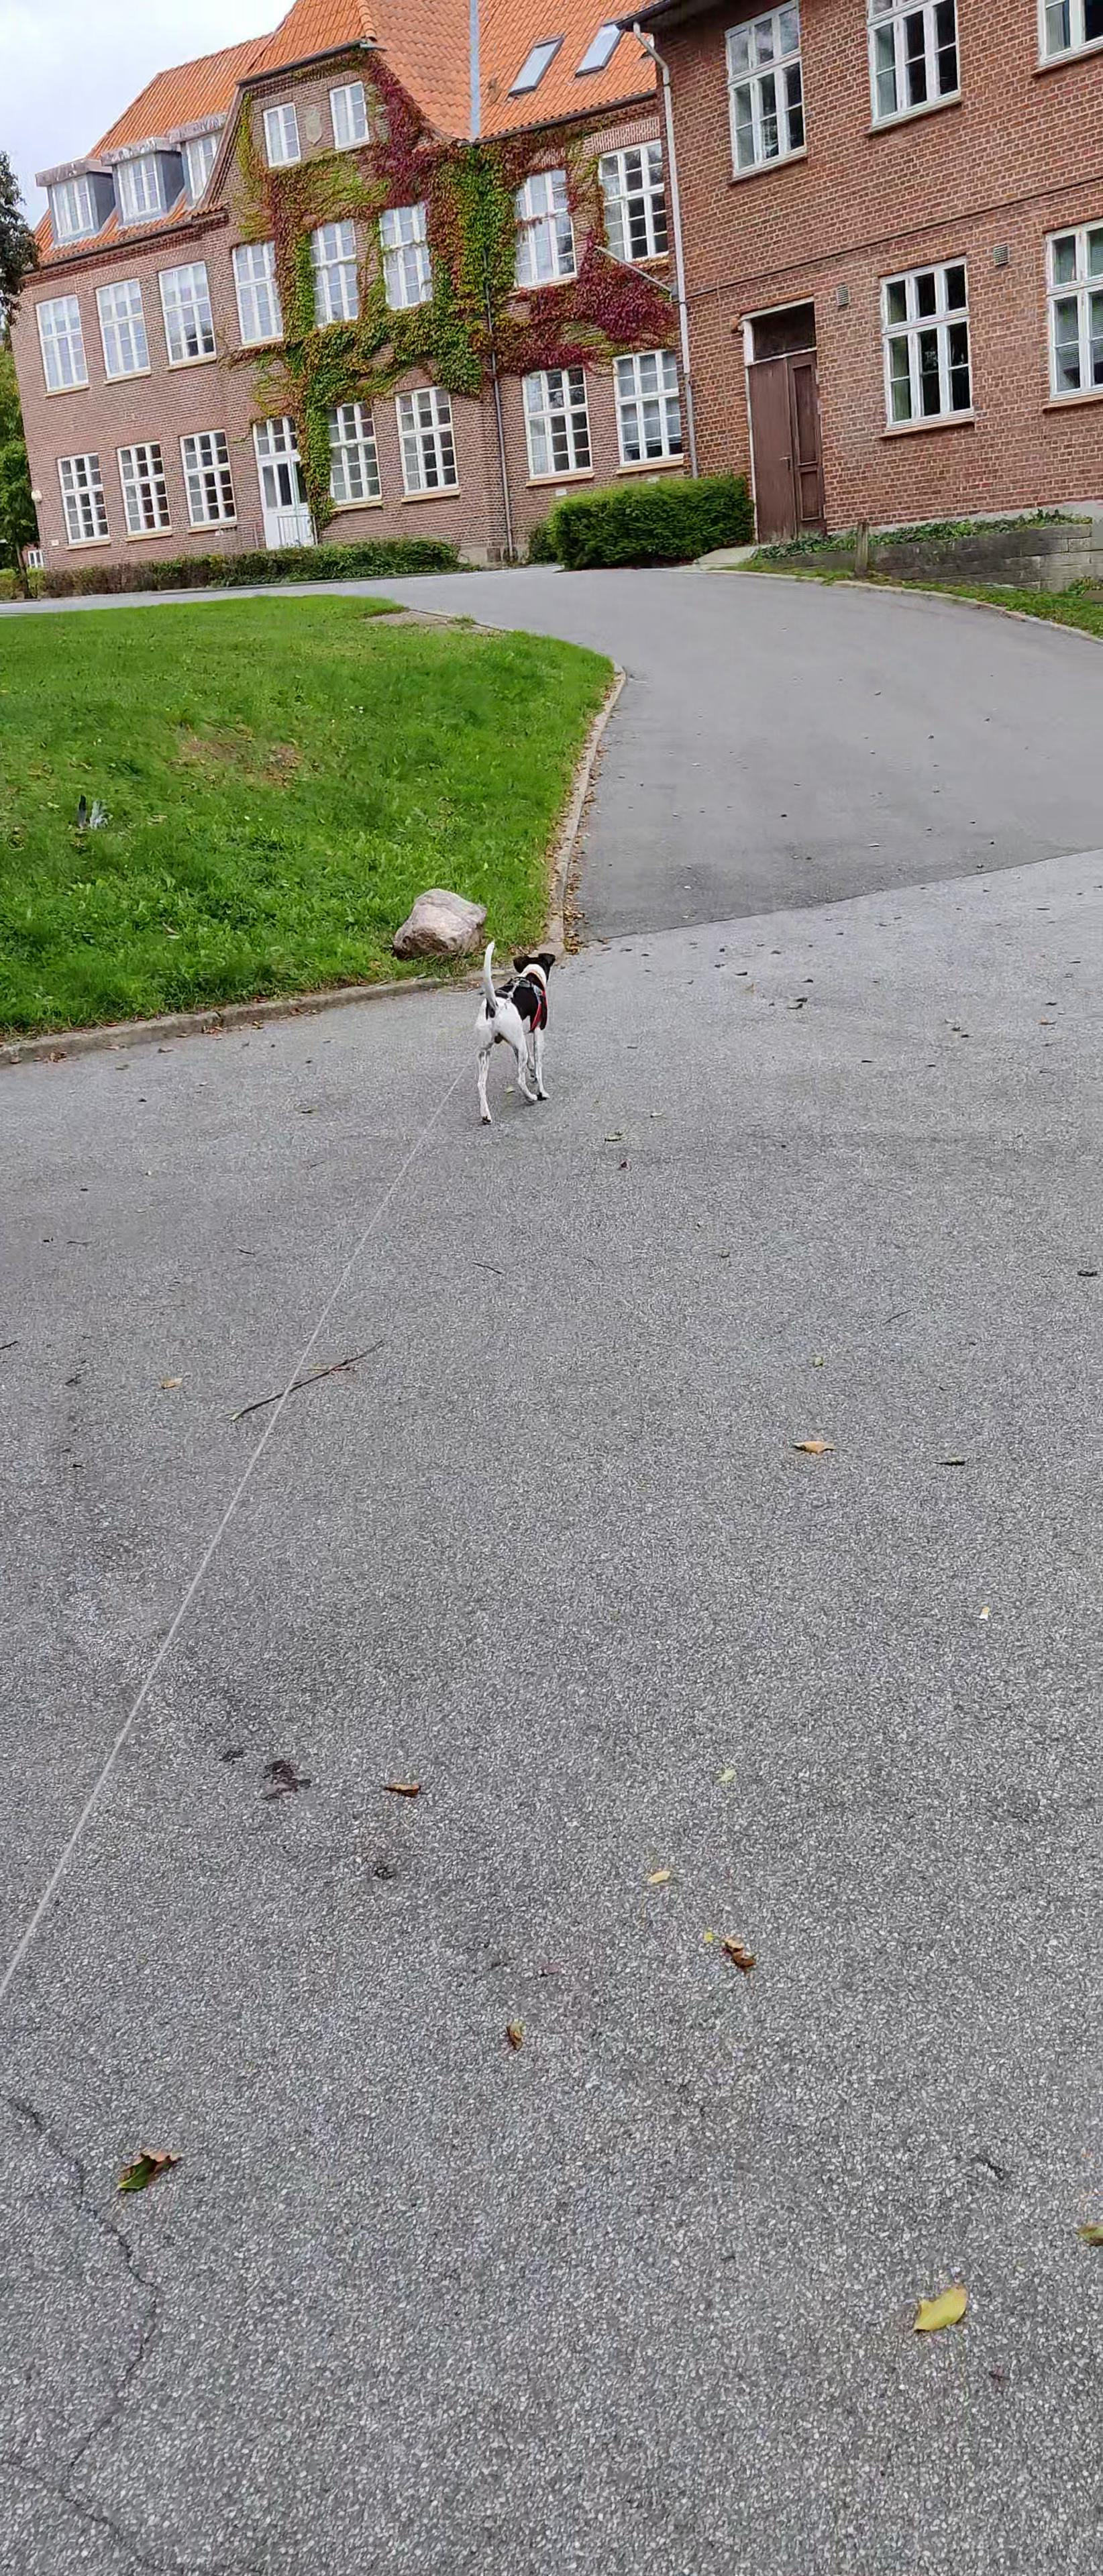Dog: (472, 940, 559, 1127)
